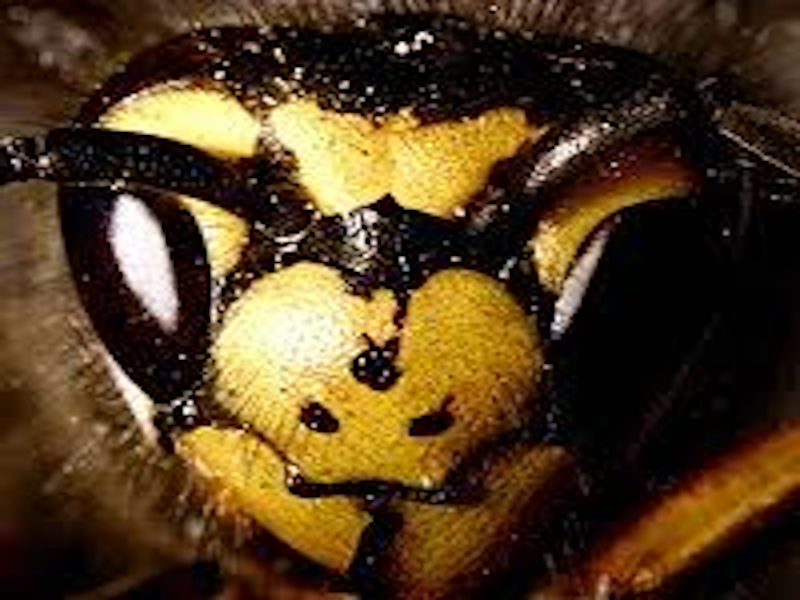chax: (21, 13, 783, 571)
